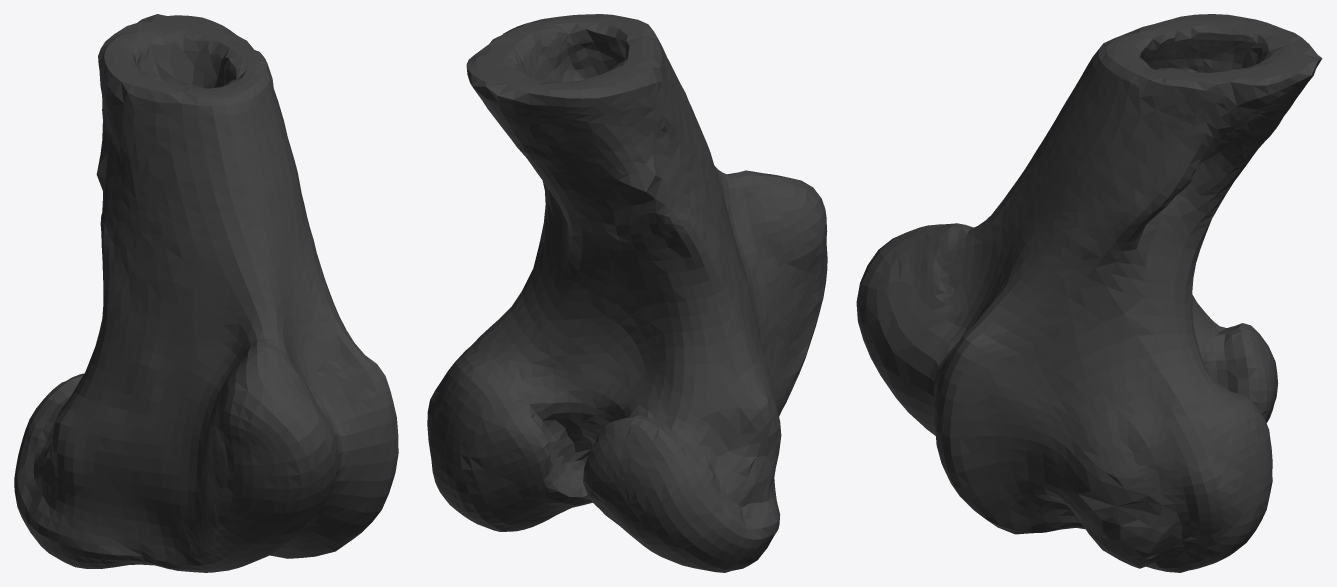
Rendered from Femur.glb.
3 renders of one model, left to right at view 1: azimuth 30°, elevation 25°; view 2: azimuth 150°, elevation 25°; view 3: azimuth 270°, elevation 25°, orthographic. The views are drawn at different scales.
Parts seen in each view (by area): view 1: Femur; view 2: Femur; view 3: Femur.
Part boxes in pixels (x1,y1,x2,y2): Femur: (14, 14, 398, 572); Femur: (427, 14, 827, 572); Femur: (856, 14, 1322, 572).
Size of the model in its own units: 119 by 178 by 154.
1 material, 1 textured.
